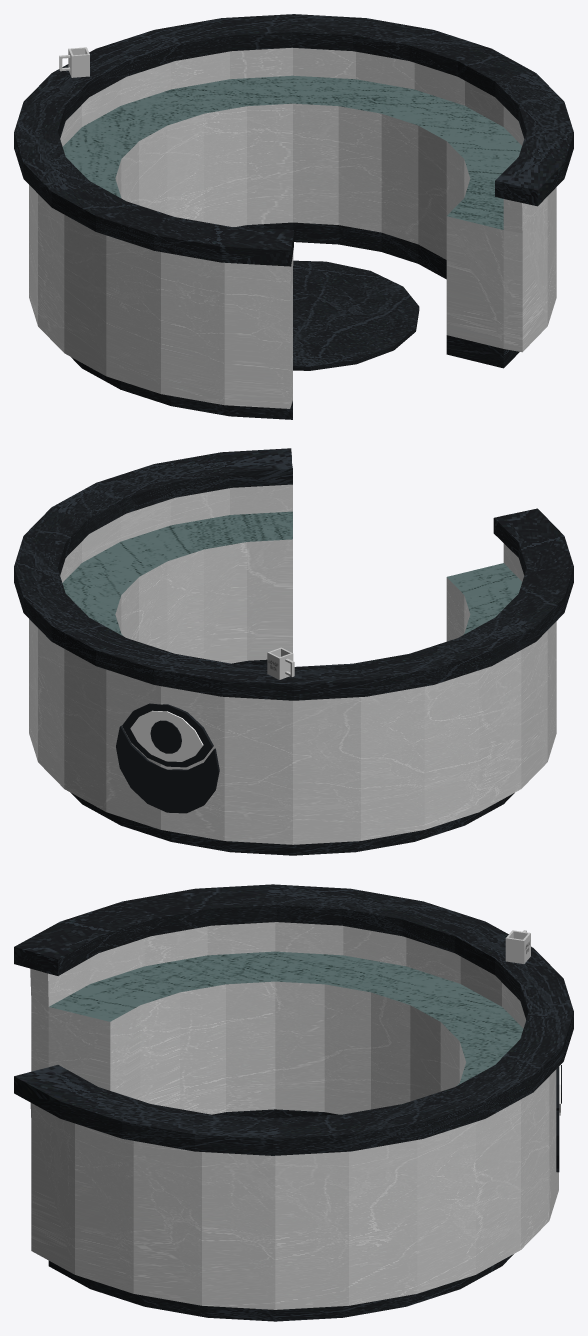
Rendered from DESKDRAFT.fbx.
3 views of the same model, one above another, from view 1: azimuth 30°, elevation 25°; view 2: azimuth 150°, elevation 25°; view 3: azimuth 270°, elevation 25° (orthographic). The views are drawn at different scales.
Visible parts, largest first — view 1: Cylinder, Cylinder.001, Cube.002; view 2: Cylinder, Cylinder.006, Cube.002; view 3: Cylinder, Cube.002.
Part boxes in pixels (box(x1,y1,x2,y2)): Cylinder: box(14, 14, 573, 419); Cylinder.001: box(293, 260, 419, 370); Cube.002: box(59, 47, 89, 77); Cylinder: box(14, 448, 573, 855); Cylinder.006: box(116, 703, 219, 813); Cube.002: box(267, 647, 294, 679); Cylinder: box(14, 884, 573, 1321); Cube.002: box(505, 930, 530, 963).
Size of the model in its own units: 310 by 127 by 289.
